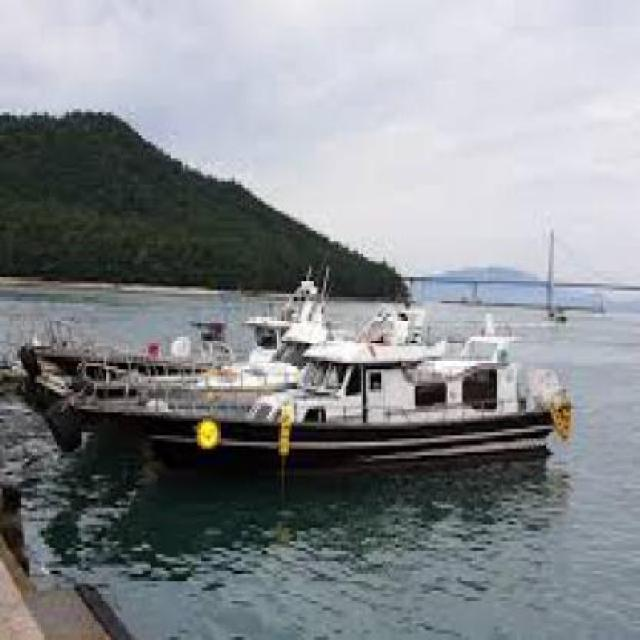fish-b: (50, 311, 583, 476)
